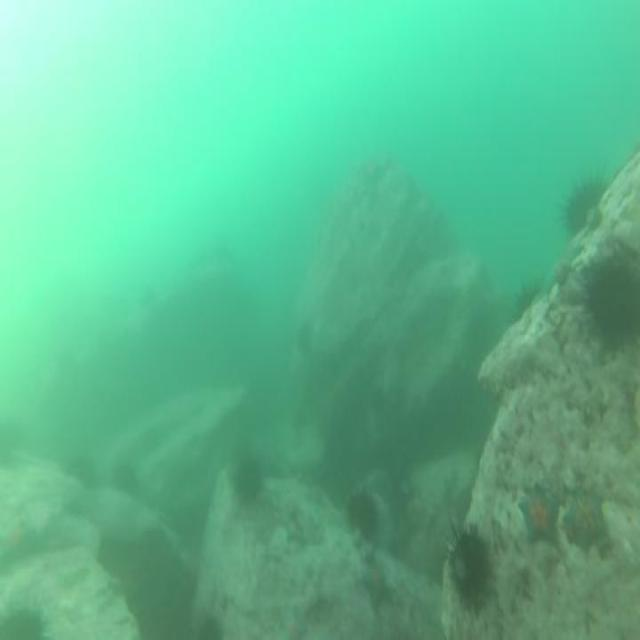echinus: (578, 238, 640, 365), (441, 518, 492, 620), (557, 168, 607, 240), (346, 484, 382, 544), (230, 452, 265, 512), (510, 273, 543, 329), (0, 602, 47, 640), (110, 454, 140, 499), (63, 452, 100, 487), (0, 414, 22, 468), (294, 318, 316, 362), (196, 608, 224, 640)
starfish: (562, 479, 610, 559), (516, 476, 562, 553), (358, 554, 399, 620)
